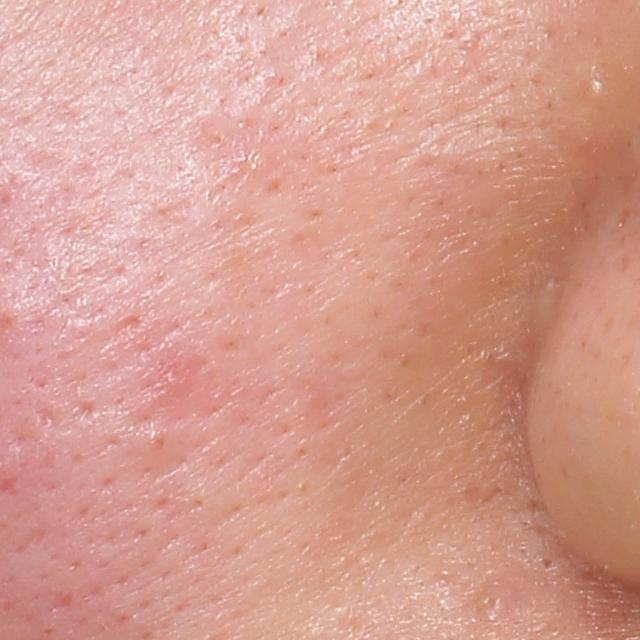atrophic_scar: (183, 109, 260, 185), (16, 525, 49, 554), (45, 589, 72, 613)
comedo: (145, 425, 174, 454), (535, 553, 559, 574)
